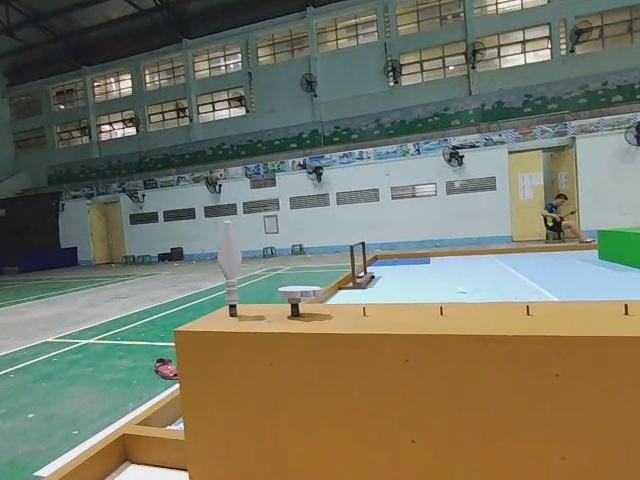Hand: (280, 285, 323, 318)
Sph: (215, 220, 244, 321)
